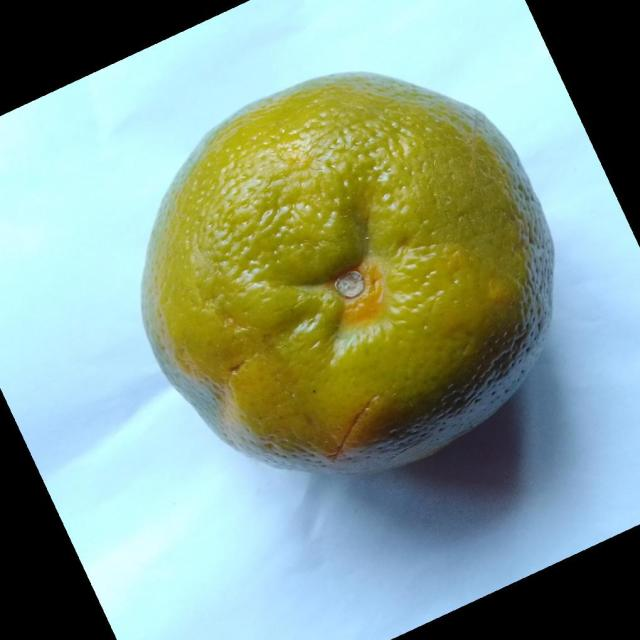fresh orange: (140, 69, 556, 476)
